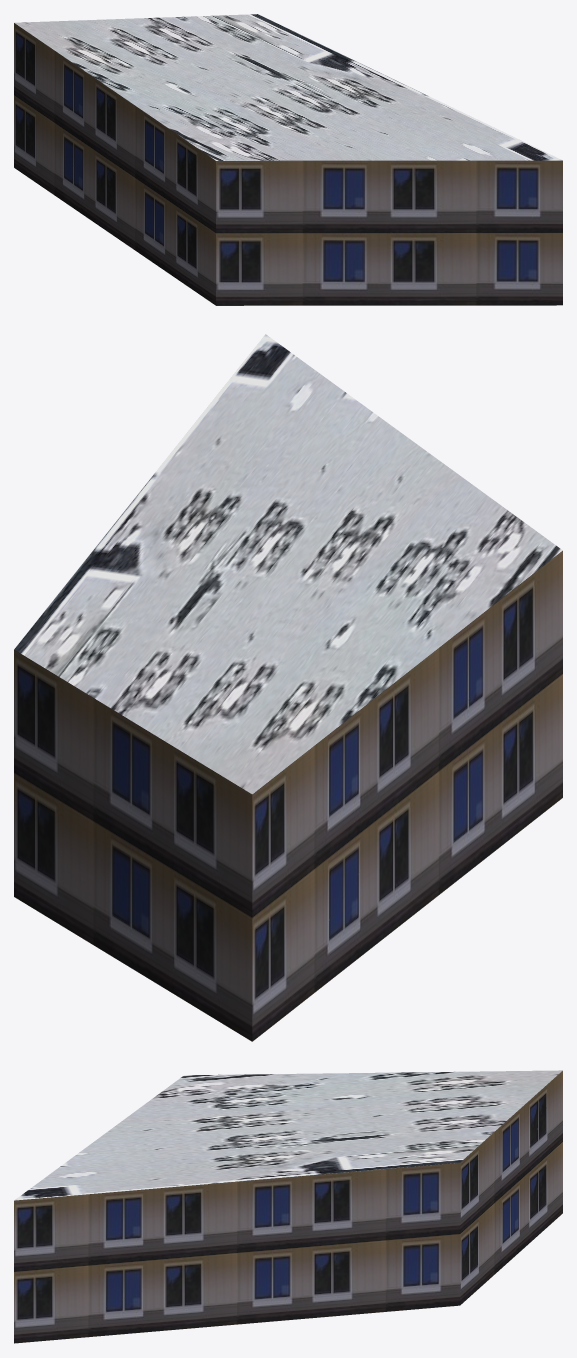
Rendered from ResTex__754.fbx.
3 renders of one model, top to bottom at view 1: azimuth 30°, elevation 25°; view 2: azimuth 150°, elevation 25°; view 3: azimuth 270°, elevation 25°, orthographic. The views are drawn at different scales.
Visible parts, largest first — view 1: CityEngineMaterial_5_m, CityEngineMaterial_8_m; view 2: CityEngineMaterial_5_m, CityEngineMaterial_8_m; view 3: CityEngineMaterial_5_m, CityEngineMaterial_8_m.
Boxes of the visible parts, left/top/right/bottom form: CityEngineMaterial_5_m: left=14, top=23, right=562, bottom=305; CityEngineMaterial_8_m: left=14, top=14, right=562, bottom=160; CityEngineMaterial_5_m: left=14, top=551, right=562, bottom=1041; CityEngineMaterial_8_m: left=14, top=334, right=562, bottom=794; CityEngineMaterial_5_m: left=14, top=1071, right=562, bottom=1343; CityEngineMaterial_8_m: left=14, top=1070, right=562, bottom=1200.
Bounding box in the file's own units: 11.72 × 6 × 20.89.
2 materials, 2 textured.
